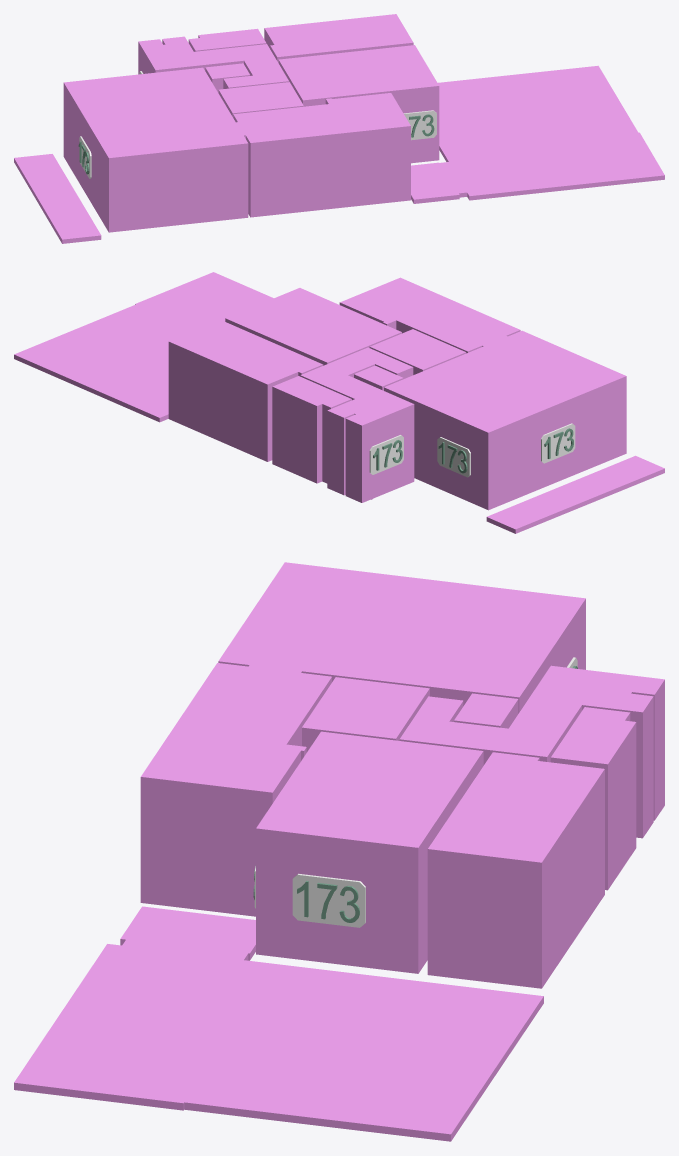
3 views of the same model, one above another, from view 1: azimuth 30°, elevation 25°; view 2: azimuth 150°, elevation 25°; view 3: azimuth 270°, elevation 25° (orthographic). The views are drawn at different scales.
Visible parts, largest first — view 1: g_1, g_9, g_0, g_6, g_7, g_4, g_8, g_2, g_5, g_3, g_29; view 2: g_1, g_9, g_7, g_4, g_6, g_0, g_5, g_8, g_2, g_25, g_13, g_17 (+1 smaller); view 3: g_9, g_6, g_1, g_7, g_0, g_4, g_5, g_2, g_21, g_3.
Part boxes in pixels (x1,y1,x2,y2): g_1: (63, 67, 248, 232); g_9: (411, 65, 664, 203); g_0: (233, 93, 410, 217); g_6: (278, 45, 439, 163); g_7: (264, 14, 413, 62); g_4: (138, 36, 289, 88); g_8: (14, 154, 101, 243); g_2: (218, 82, 303, 117); g_5: (188, 28, 266, 51); g_3: (205, 63, 250, 92); g_29: (403, 110, 436, 140); g_1: (384, 330, 626, 510); g_9: (14, 272, 273, 422); g_7: (168, 320, 323, 461); g_4: (300, 347, 414, 502); g_6: (225, 288, 401, 365); g_0: (339, 277, 520, 353); g_5: (272, 376, 351, 483); g_8: (486, 455, 664, 533); g_2: (369, 329, 466, 374); g_25: (541, 423, 575, 463); g_13: (369, 435, 403, 474); g_17: (437, 437, 470, 477); g_9: (14, 906, 543, 1141); g_6: (256, 731, 483, 973); g_1: (218, 562, 585, 713); g_7: (427, 752, 604, 988); g_0: (140, 663, 331, 916); g_4: (399, 665, 664, 838); g_5: (550, 707, 636, 890); g_2: (302, 677, 429, 752); g_21: (292, 873, 365, 927); g_3: (454, 693, 518, 728).
Bounding box in the file's own units: 21.02 × 2.74 × 12.05.
